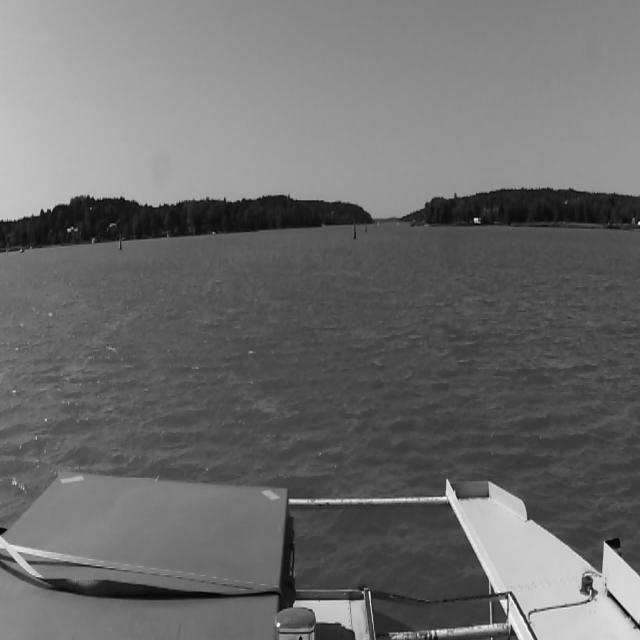buoy: (352, 220, 358, 240), (117, 236, 123, 250), (364, 223, 368, 234)
